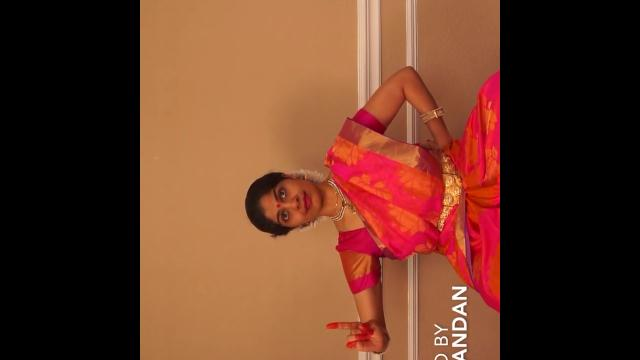soochi: (311, 303, 395, 360)
